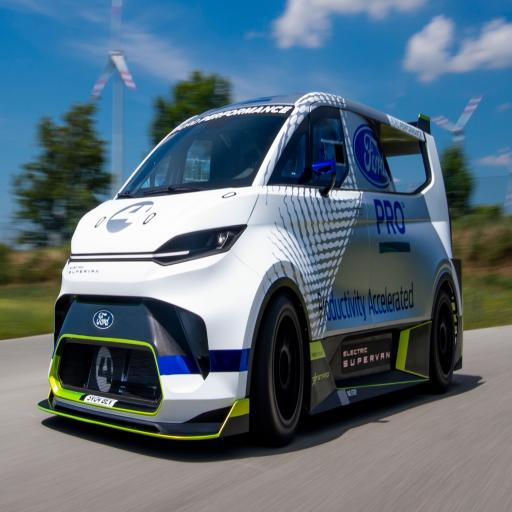coupe: (38, 92, 462, 445)
